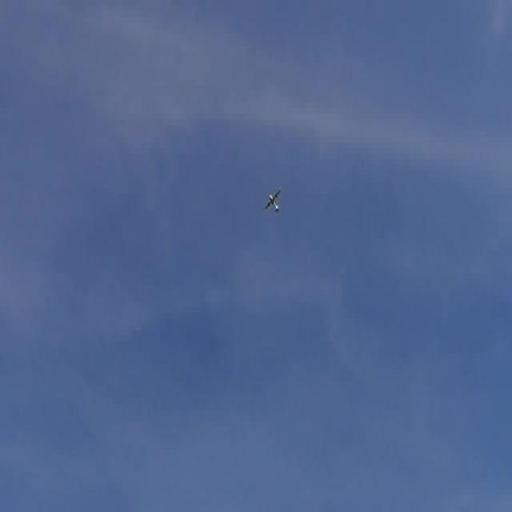uav: (263, 182, 284, 218)
